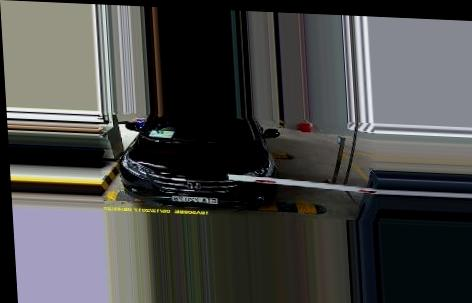License_Plate: (172, 192, 220, 206)
